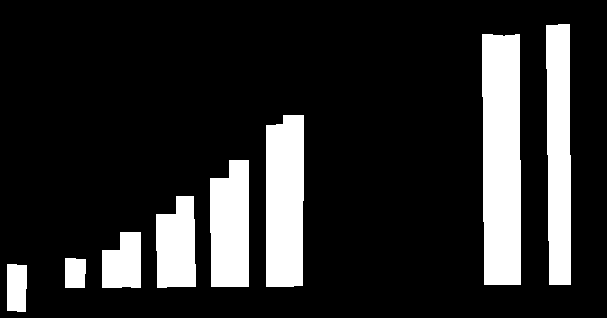parkingspot: (546, 24, 570, 284), (482, 34, 502, 284), (500, 34, 520, 284), (283, 115, 303, 286), (266, 124, 285, 286), (229, 160, 248, 286), (210, 178, 230, 286), (176, 196, 195, 286), (156, 214, 177, 287), (120, 232, 140, 287), (7, 264, 26, 311), (102, 250, 121, 287), (65, 258, 85, 287)
